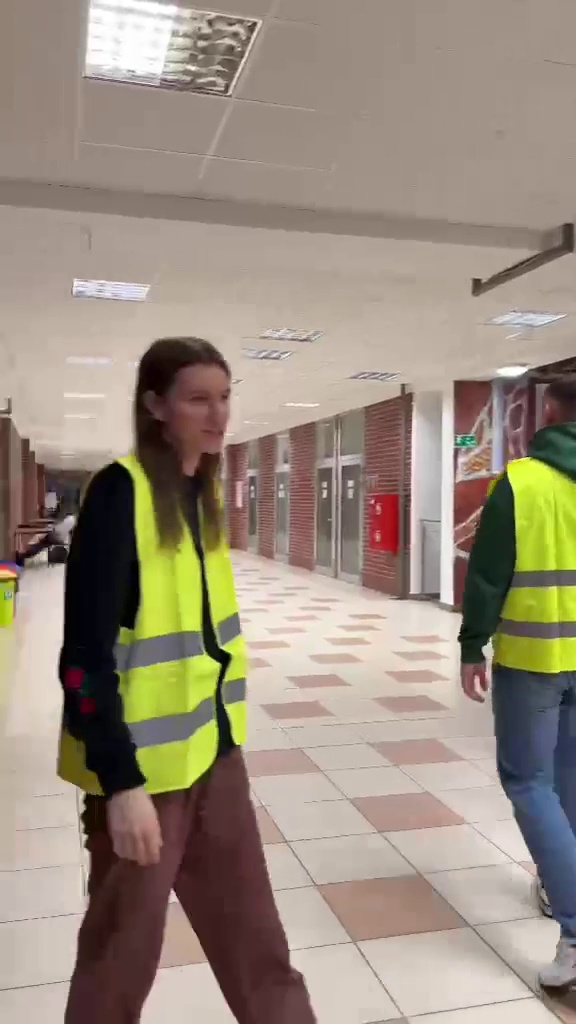vest: (58, 328, 320, 1018), (462, 365, 576, 994)
